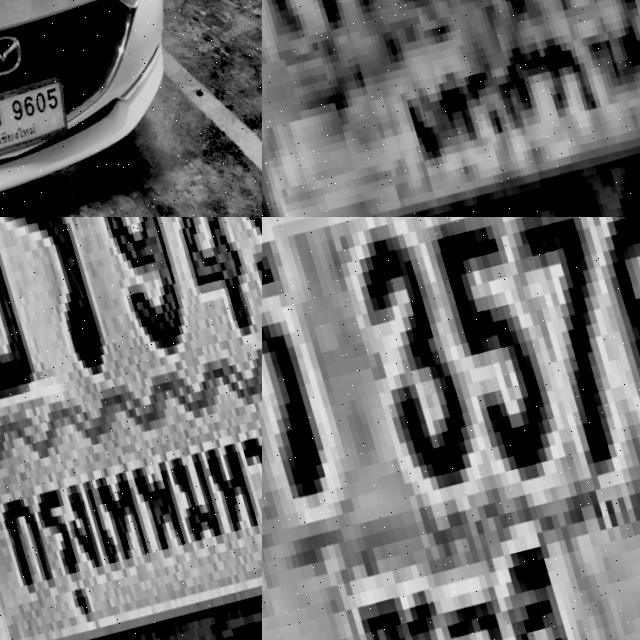license-plate: (262, 217, 640, 640), (0, 217, 262, 640), (262, 0, 640, 217), (0, 77, 69, 164)
